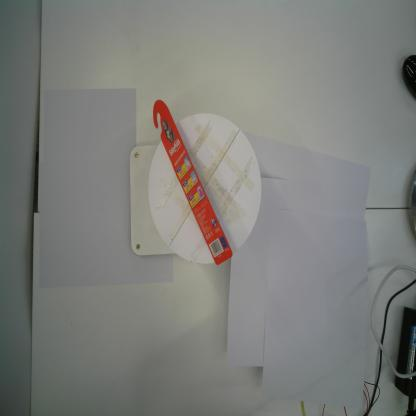Personal Hygiene: (152, 98, 234, 266)
